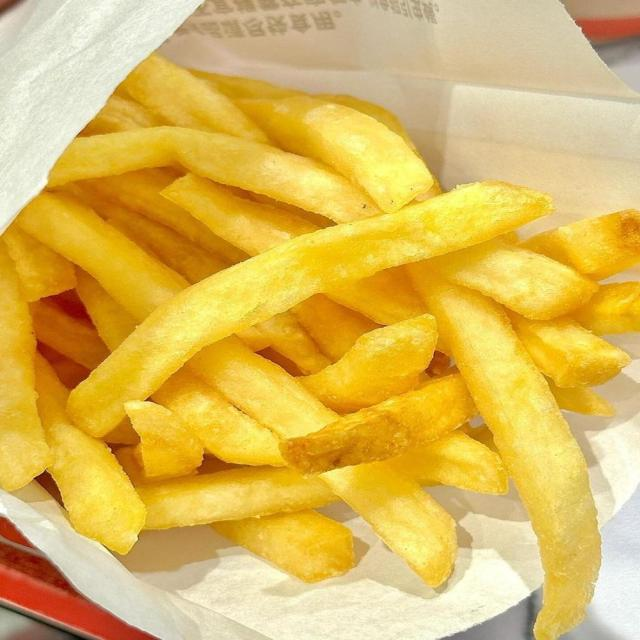potato fries: (0, 55, 639, 639), (70, 183, 551, 432), (409, 264, 599, 638), (50, 127, 380, 221), (238, 96, 433, 212), (36, 357, 145, 553), (18, 193, 187, 318), (281, 374, 476, 474), (321, 464, 456, 585), (81, 169, 246, 263), (430, 239, 597, 319), (301, 315, 437, 412), (121, 54, 266, 142), (163, 174, 319, 255), (0, 243, 51, 490), (154, 370, 283, 466), (154, 370, 283, 465), (138, 468, 337, 529), (213, 510, 354, 582), (511, 314, 631, 386), (107, 213, 229, 283), (524, 210, 639, 279), (390, 430, 507, 494), (125, 402, 203, 477), (292, 295, 378, 362), (2, 225, 75, 302), (30, 301, 108, 369), (76, 269, 136, 350), (573, 282, 639, 334), (82, 95, 166, 135), (190, 70, 304, 98), (548, 380, 615, 416)
